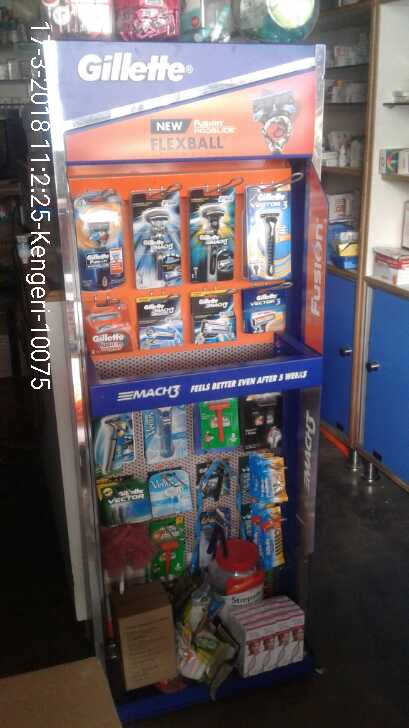gillette: (127, 191, 190, 286), (70, 194, 125, 288), (187, 186, 233, 285), (248, 187, 291, 282), (86, 301, 137, 352), (136, 298, 182, 351), (244, 513, 286, 568), (190, 294, 235, 339), (244, 288, 283, 331), (105, 485, 150, 518), (250, 457, 285, 499)
venus: (151, 473, 189, 515)
